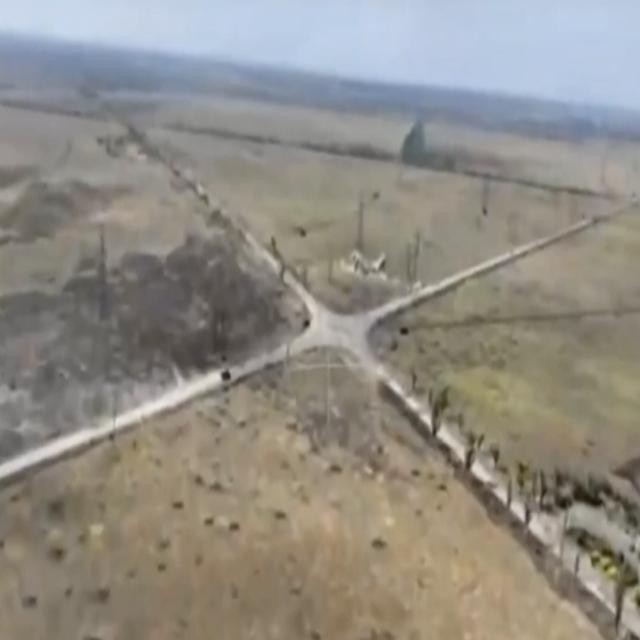vehicle: (221, 368, 232, 382)
